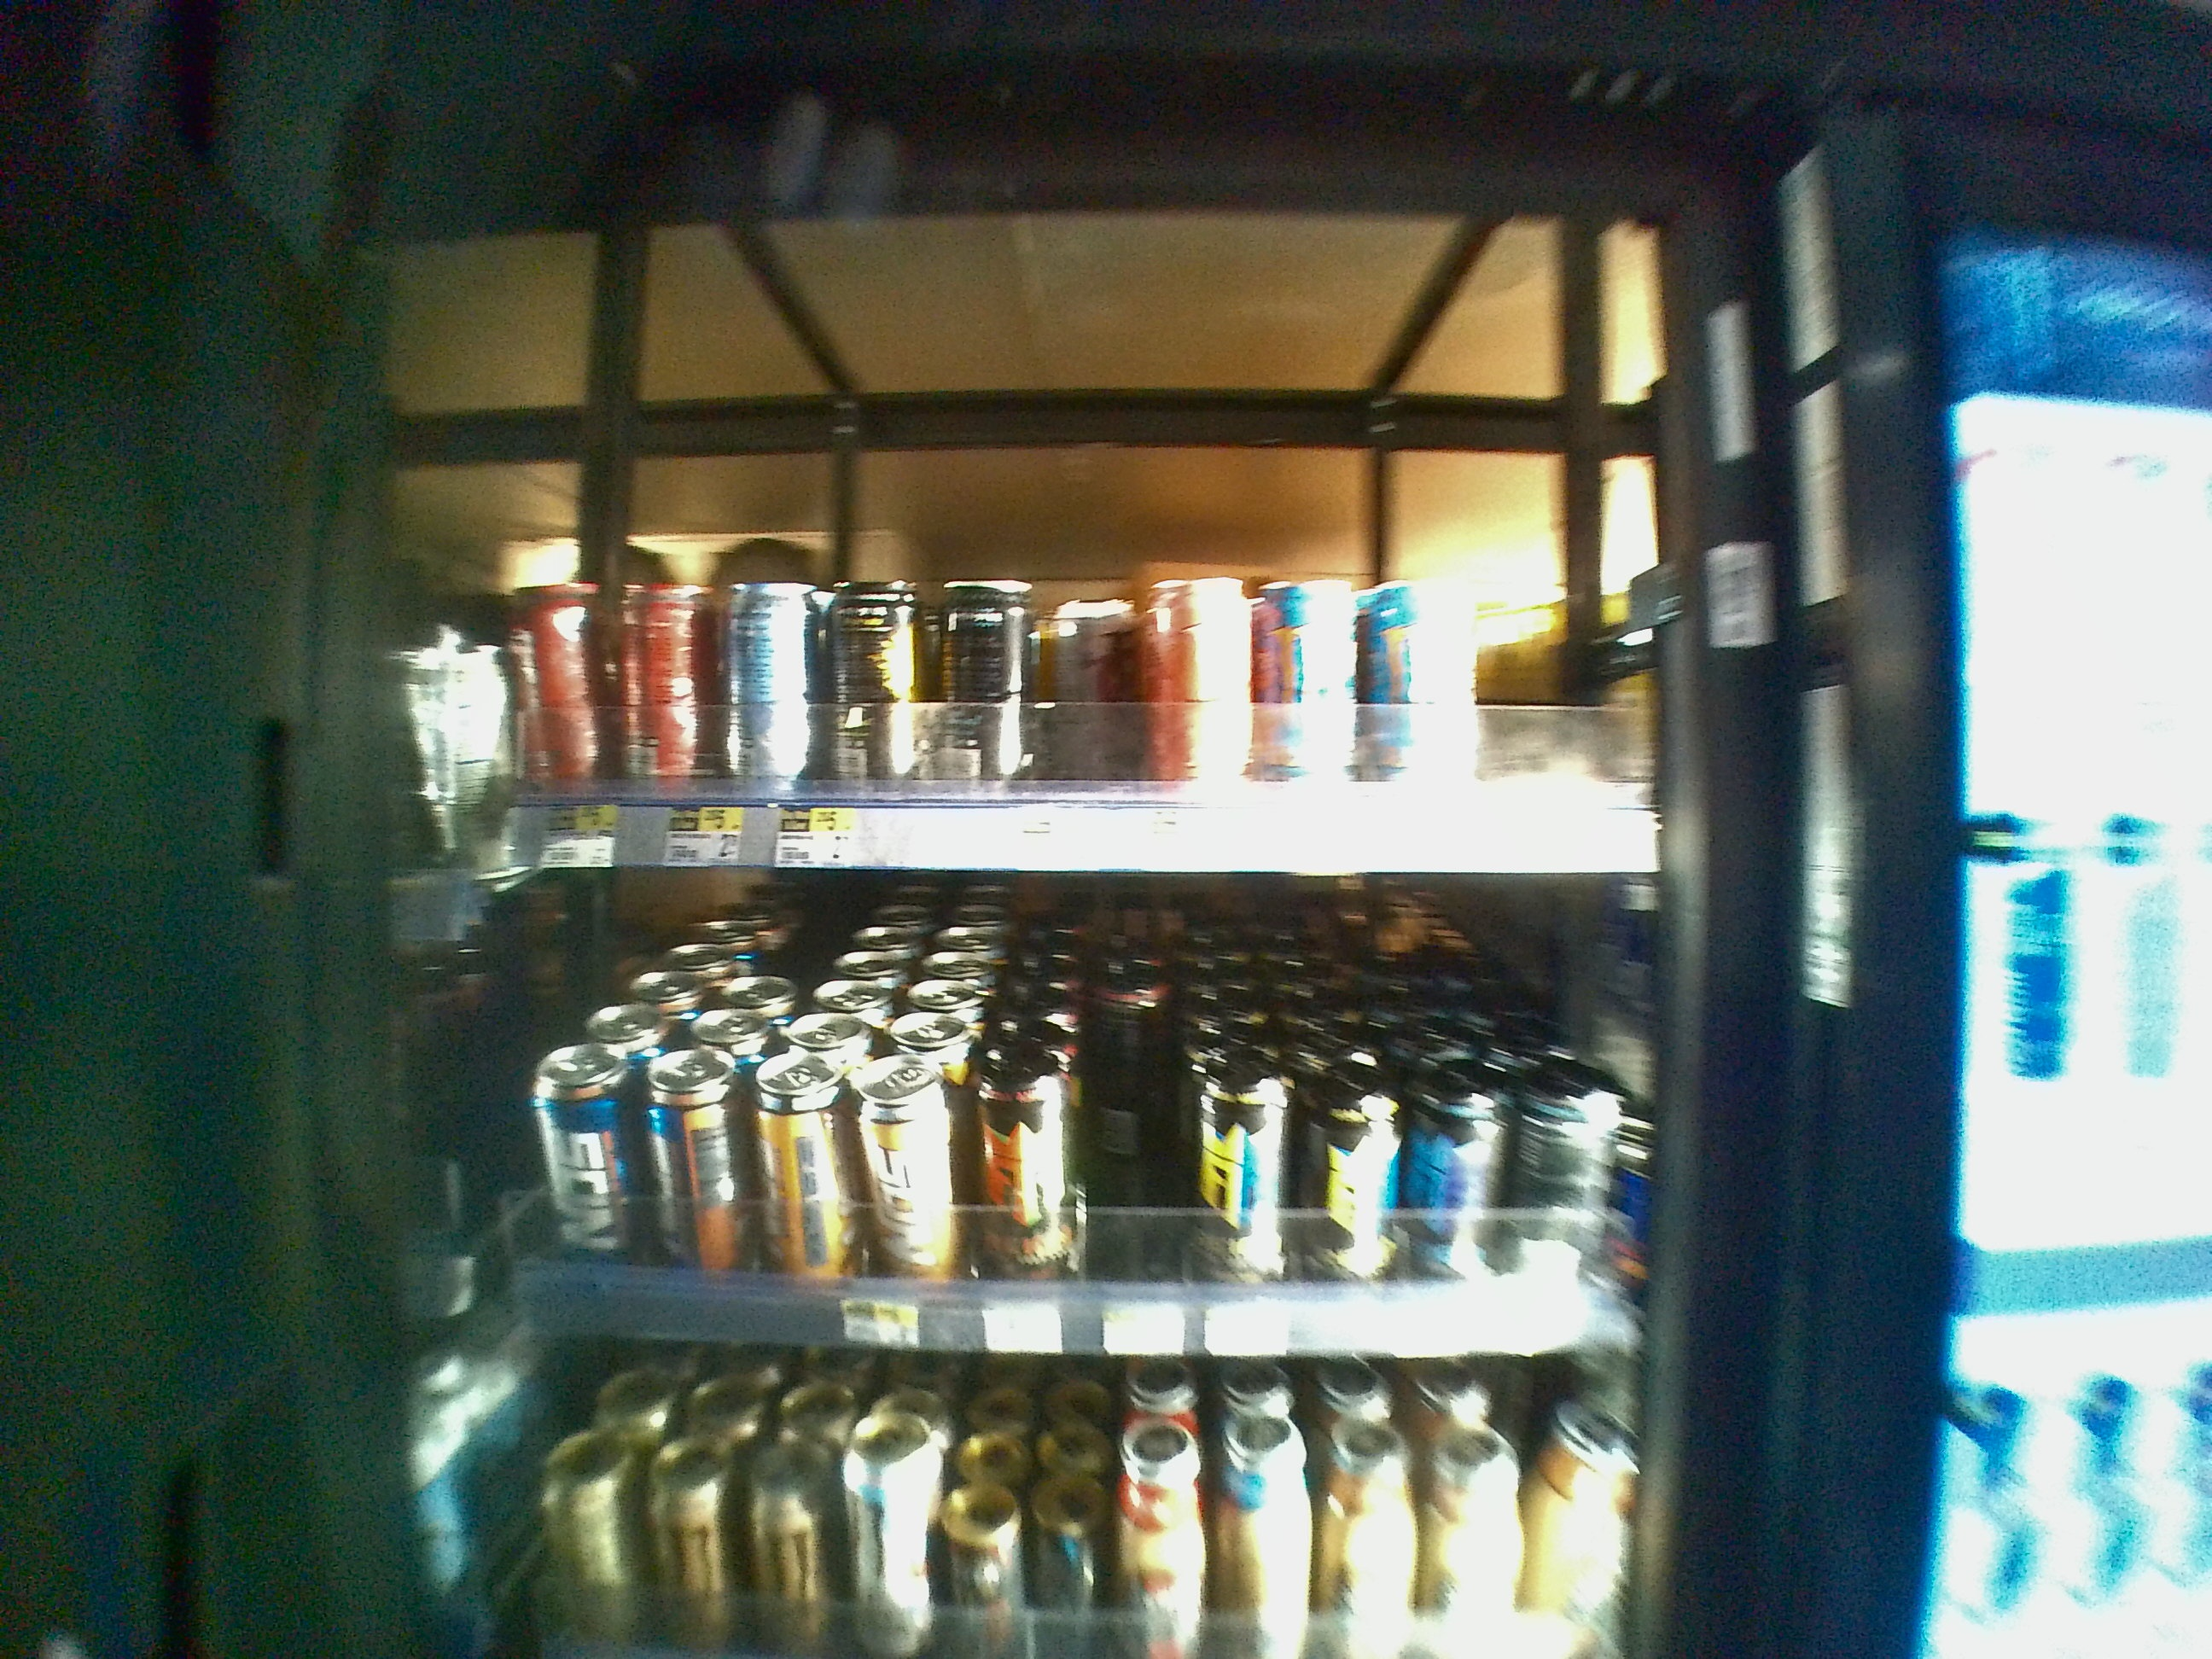shelf: (381, 246, 1676, 864), (368, 871, 1677, 1356)
